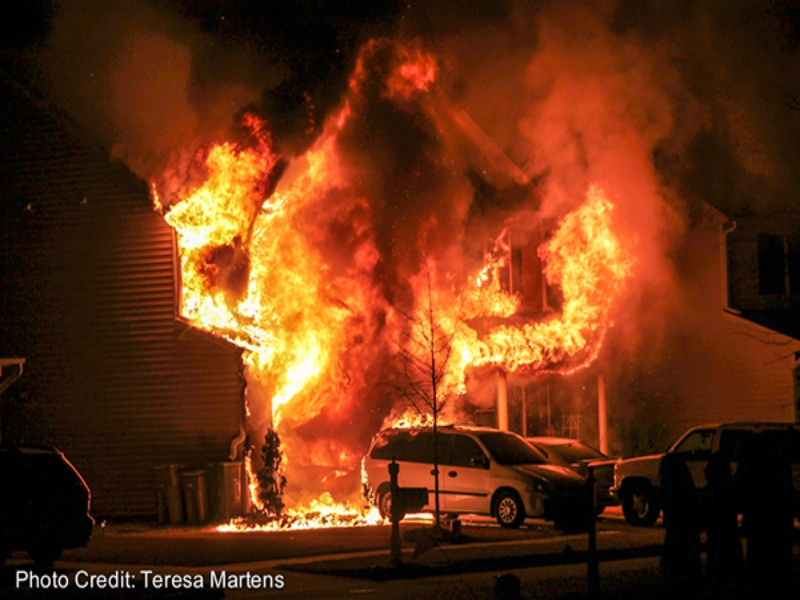fire: (433, 178, 646, 400), (166, 118, 335, 396), (207, 491, 380, 542), (359, 404, 461, 442)
